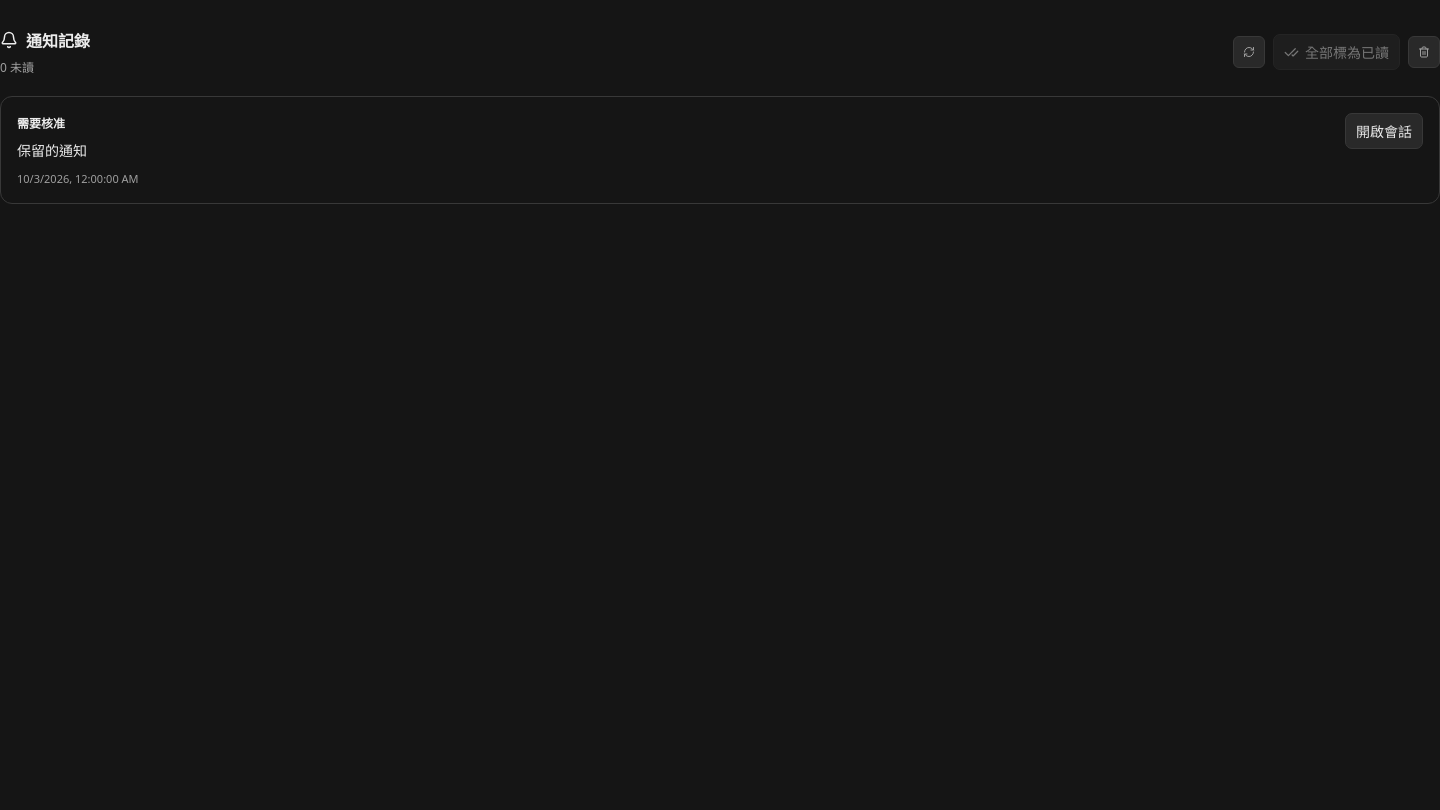
Test: notification center › requires clear confirmation and retains the record when clearing fails
Expected: the text "保留的通知" is shown, left=17, top=141, right=87, bottom=160
Step 1. Click the button named "清除通知記錄" → (1424, 52), box left=1408, top=36, right=1439, bottom=68
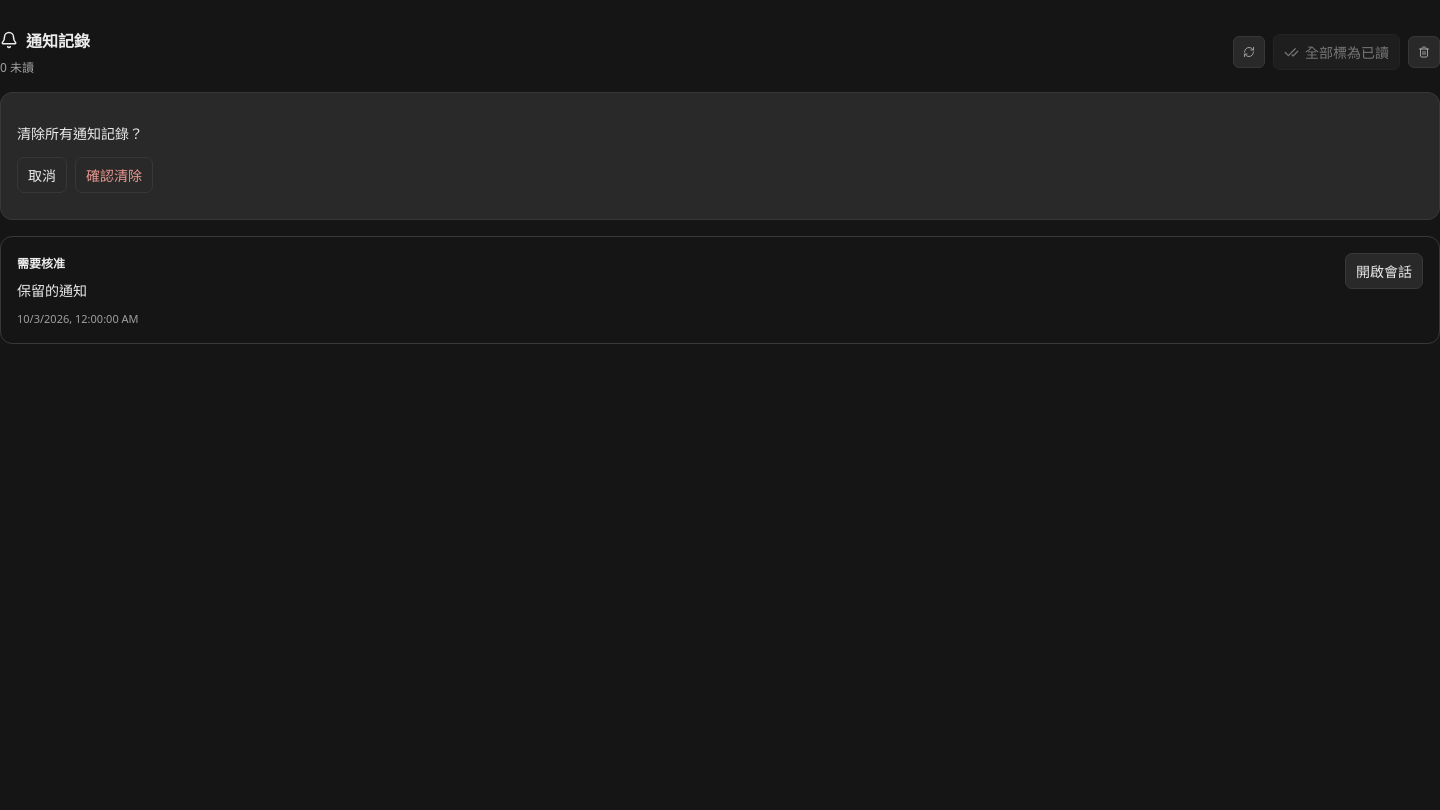
Step 2. Click the button "確認清除" → (114, 175), box left=75, top=157, right=153, bottom=193
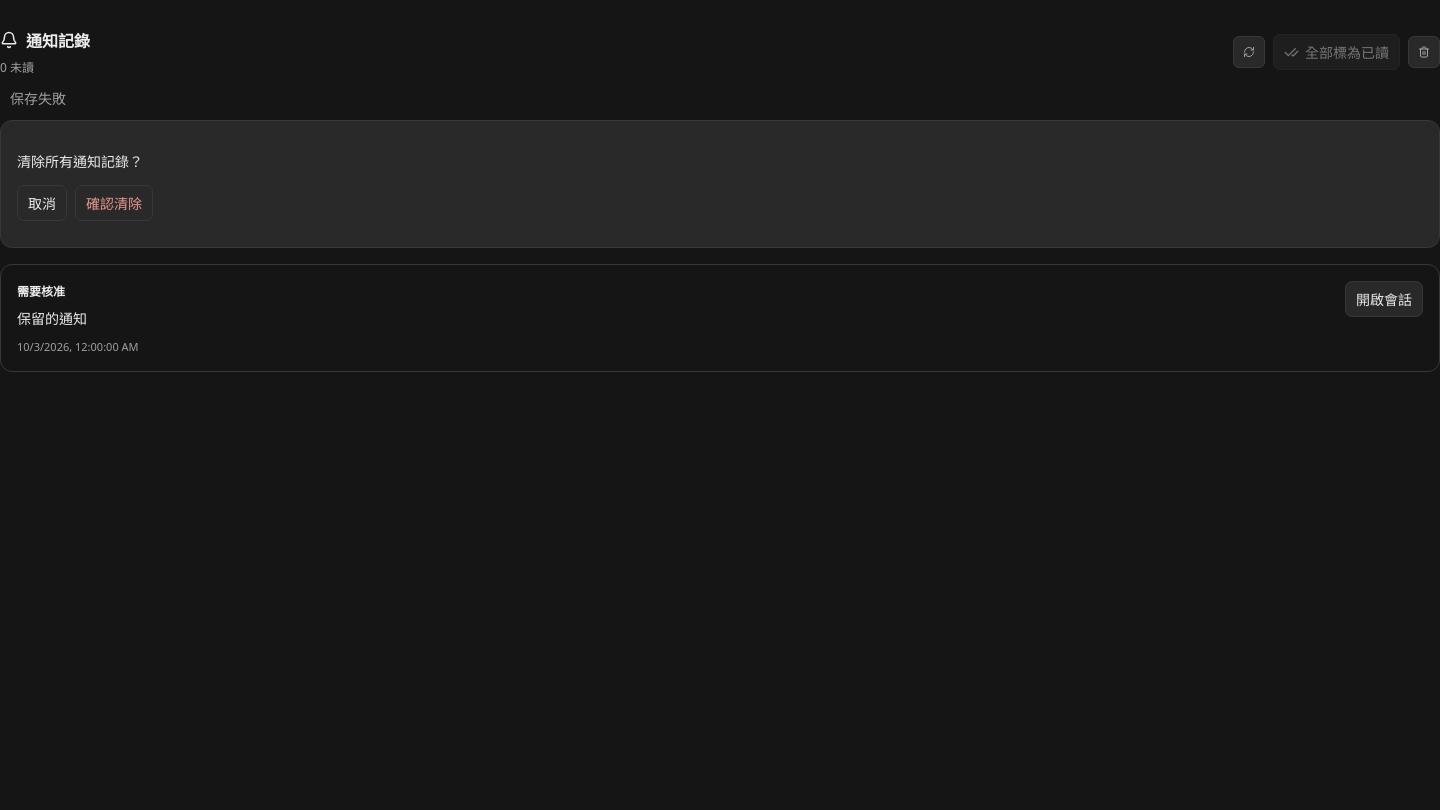
Expected: the text "保留的通知" is shown, left=17, top=309, right=87, bottom=328
Expected: the dialog is shown, left=0, top=120, right=1439, bottom=248
Expected: the text "保存失敗" is shown, left=10, top=89, right=66, bottom=108
